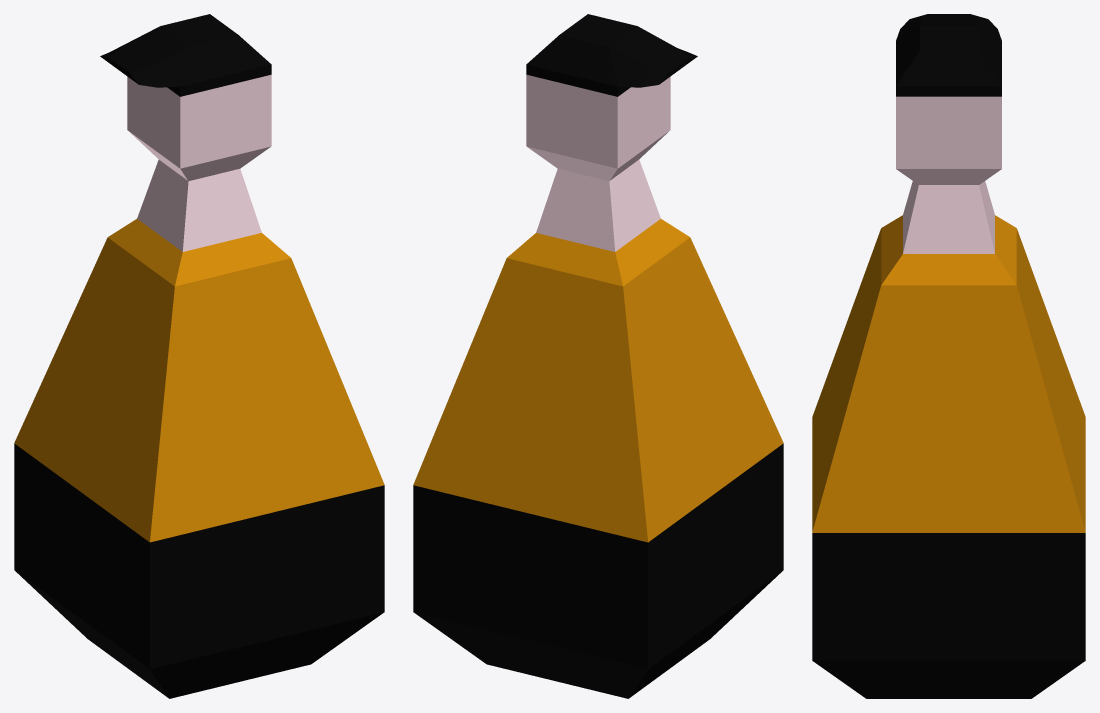
File: enemy.fbx
The picture shows the model from 3 angles, left to right: view 1: azimuth 30°, elevation 25°; view 2: azimuth 150°, elevation 25°; view 3: azimuth 270°, elevation 25°; orthographic projection.
Visible parts, largest first — view 1: Cube; view 2: Cube; view 3: Cube.
Part boxes in pixels (x1,y1,x2,y2): Cube: (14, 14, 384, 698); Cube: (413, 14, 783, 698); Cube: (812, 14, 1085, 698).
Size of the model in its own units: 105 by 266 by 105.
